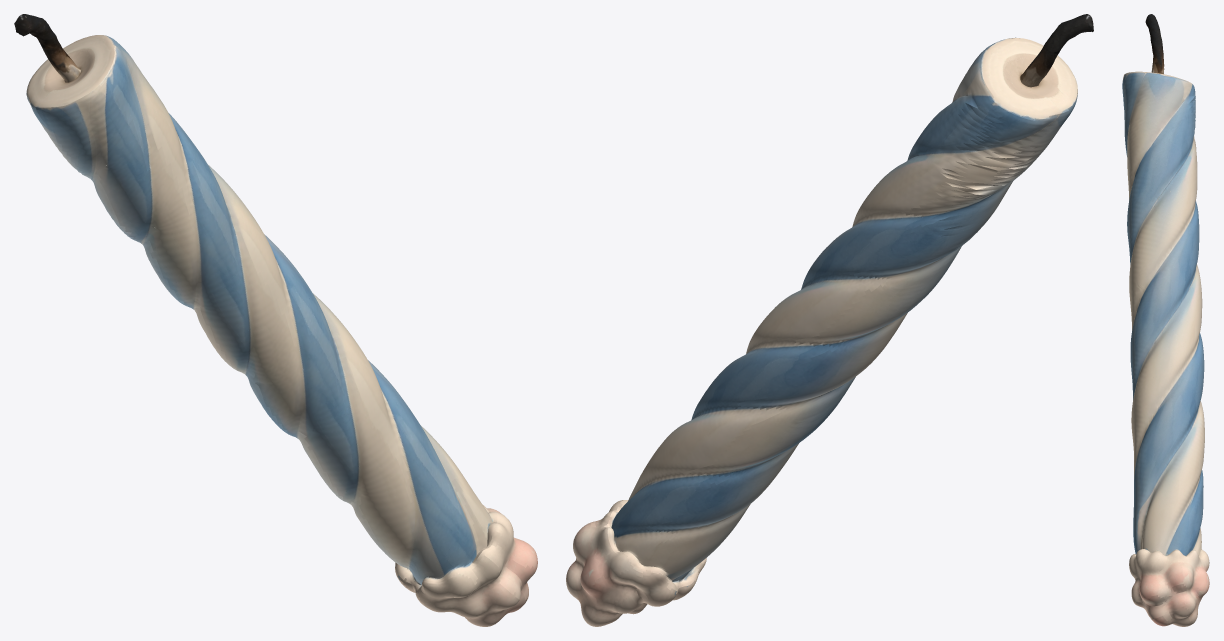
The model's file is Meshy_AI_Twisted_Candle_1122025444_texture.glb.
3 renders of one model, left to right at view 1: azimuth 30°, elevation 25°; view 2: azimuth 150°, elevation 25°; view 3: azimuth 270°, elevation 25°, orthographic. The views are drawn at different scales.
Parts seen in each view (by area): view 1: Mesh0; view 2: Mesh0; view 3: Mesh0.
Boxes of the visible parts, x1,y1,x2,y2 form: Mesh0: (14,14,537,626); Mesh0: (566,14,1093,626); Mesh0: (1122,14,1209,626).
Size of the model in its own units: 1.42 by 1.9 by 0.3239.
1 material, 1 textured.
